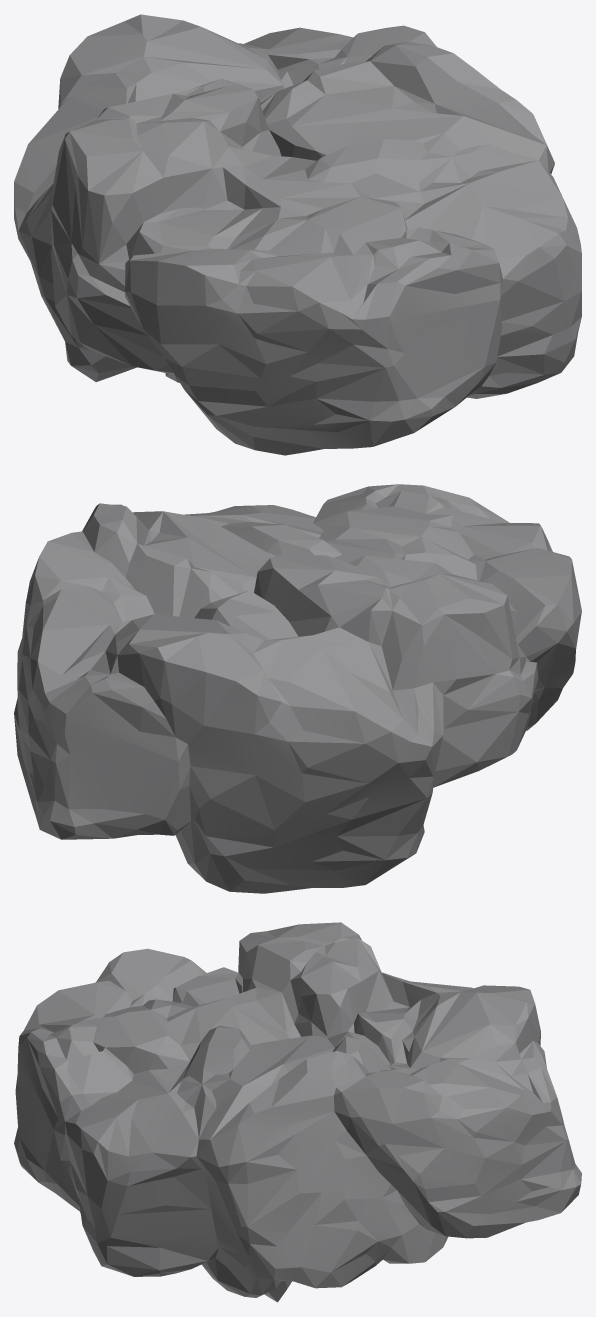
The model's file is Env_Rock_04.fbx.
The picture shows the model from 3 angles, top to bottom: view 1: azimuth 30°, elevation 25°; view 2: azimuth 150°, elevation 25°; view 3: azimuth 270°, elevation 25°; orthographic projection. The views are drawn at different scales.
Visible parts, largest first — view 1: Rock_04; view 2: Rock_04; view 3: Rock_04.
Boxes of the visible parts, box(x1,y1,x2,y2) form: Rock_04: box(14, 14, 581, 455); Rock_04: box(14, 484, 581, 893); Rock_04: box(14, 922, 581, 1302).
Size of the model in its own units: 809 by 473 by 990.
